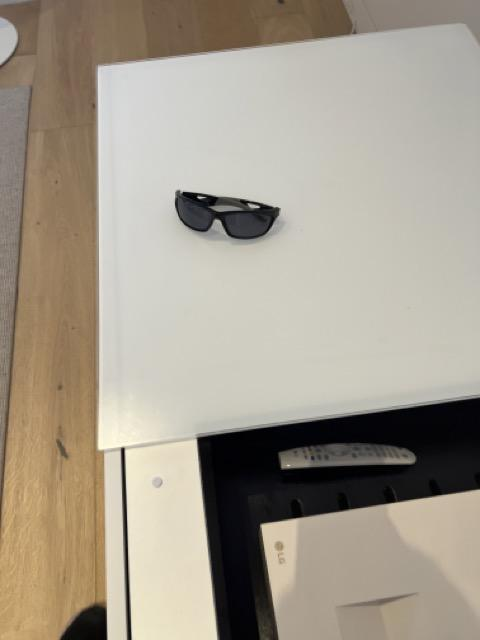Sunglasses: (172, 188, 281, 241)
